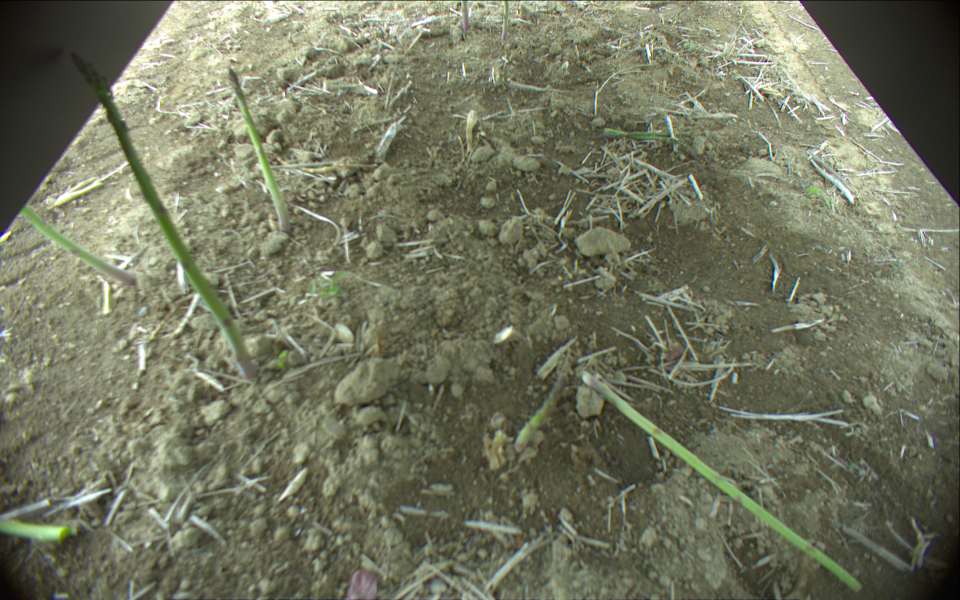aspa: (581, 370, 865, 592), (72, 53, 260, 377), (224, 63, 293, 233), (19, 201, 140, 287), (513, 357, 574, 451), (2, 516, 68, 543), (459, 1, 472, 35), (500, 1, 510, 39)
